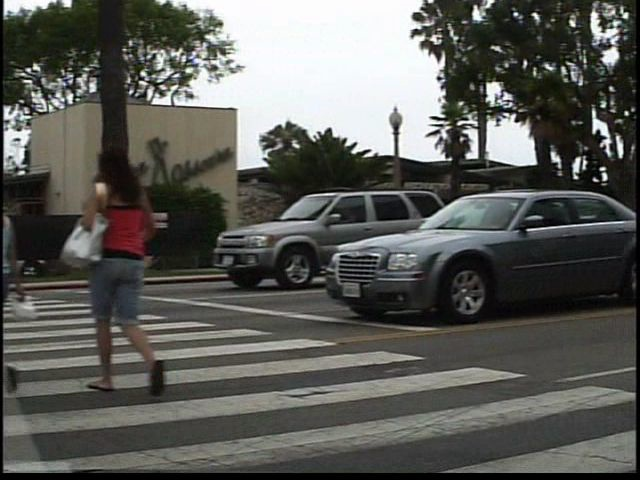person: (88, 140, 186, 408)
